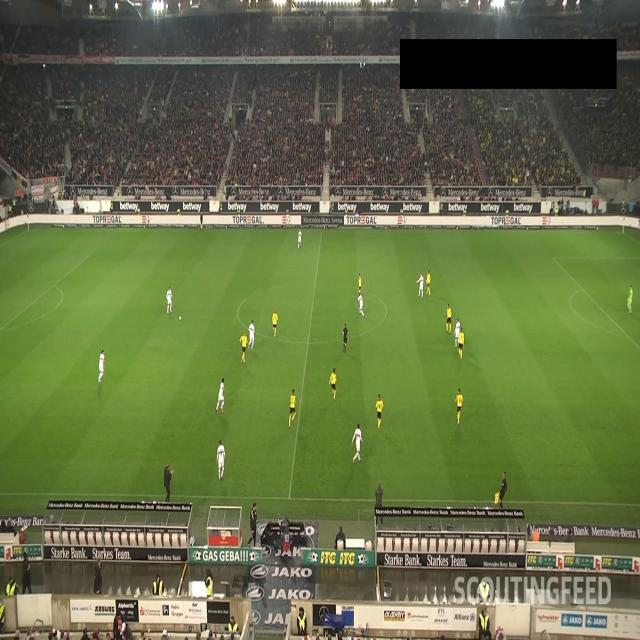ball: (179, 315, 182, 321)
